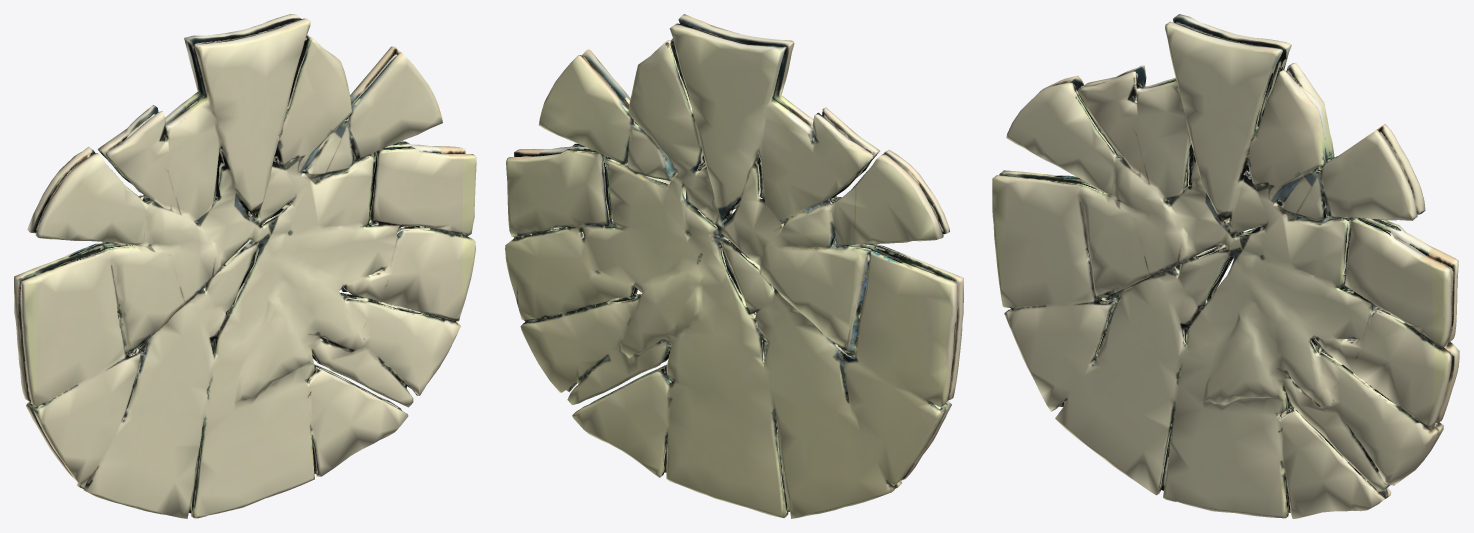
Rendered from Fragmented mirror.gltf.
3 renders of one model, left to right at view 1: azimuth 30°, elevation 25°; view 2: azimuth 150°, elevation 25°; view 3: azimuth 330°, elevation 25°, orthographic.
Visible parts, largest first — view 1: Mesh1.0; view 2: Mesh1.0; view 3: Mesh1.0.
Part boxes in pixels (left/top/right/bottom): Mesh1.0: left=14, top=14, right=476, bottom=518; Mesh1.0: left=505, top=14, right=963, bottom=518; Mesh1.0: left=992, top=14, right=1459, bottom=518.
Size of the model in its own units: 2.01 by 2.01 by 0.1337.
1 material, 1 textured.
